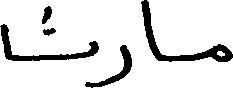X: (0, 1, 96, 87), (98, 40, 132, 87), (142, 0, 159, 65), (211, 39, 232, 66)
